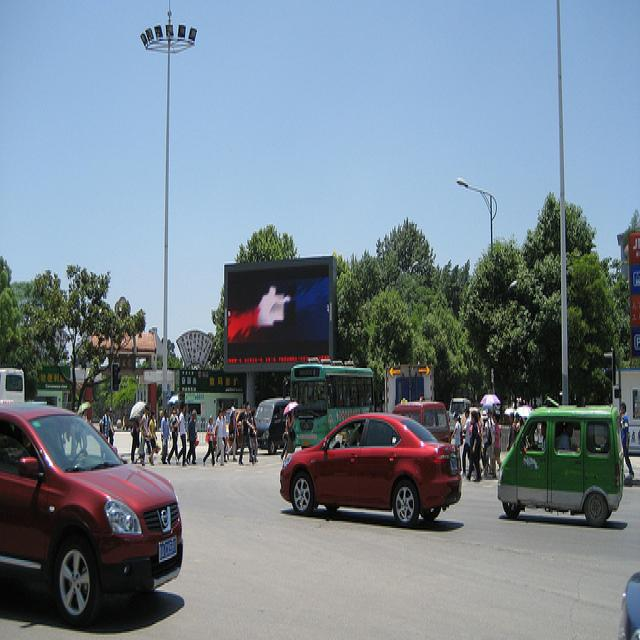Vehicle: (2, 396, 181, 624), (280, 411, 463, 527), (500, 409, 626, 525), (290, 365, 375, 449), (394, 403, 452, 443), (255, 397, 294, 454), (0, 369, 46, 406)
